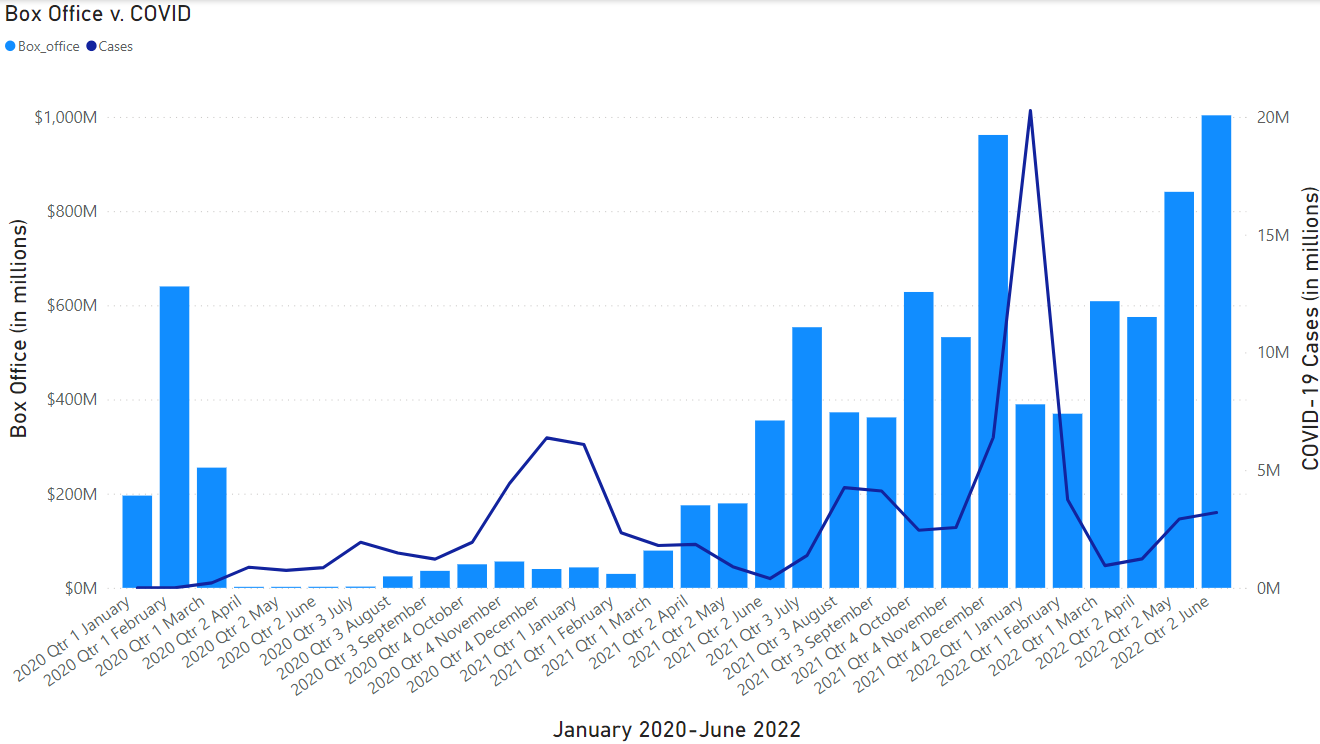

Layout of this report page (visuals, bound fields, positions):
{"tool":"powerbi","page":{"name":"C v B: 2021","canvas":[1280,720],"ordinal":3},"visuals":[{"type":"lineClusteredColumnComboChart","fields":{"Category":["Covid_2021.Date.Variation.Date Hierarchy.Year","Covid_2021.Date.Variation.Date Hierarchy.Quarter","Covid_2021.Date.Variation.Date Hierarchy.Month","Covid_2021.Date.Variation.Date Hierarchy.Day"],"Y2":["Sum(Covid_2021.Cases)"],"Y":["Sum(Covid_2021.Box_office)"]},"box":[0,0,560.3,719.7],"z":0},{"type":"lineClusteredColumnComboChart","fields":{"Category":["Covid_2021.Date.Variation.Date Hierarchy.Year","Covid_2021.Date.Variation.Date Hierarchy.Quarter","Covid_2021.Date.Variation.Date Hierarchy.Month","Covid_2021.Date.Variation.Date Hierarchy.Day"],"Y2":["Sum(Covid_2021.Deaths)"],"Y":["Sum(Covid_2021.Box_office)"]},"box":[655.1,0,615.3,719.7],"z":1000}]}

Visuals, with their boxes in screenshot pixels (x1, y1, x2, y2), scaled from the page's 1280x720 canvas onto the 1320x744 screenshot:
lineClusteredColumnComboChart - Covid_2021.Date.Variation.Date Hierarchy.Year x Covid_2021.Date.Variation.Date Hierarchy.Quarter: bbox=(0, 0, 578, 743)
lineClusteredColumnComboChart - Covid_2021.Date.Variation.Date Hierarchy.Year x Covid_2021.Date.Variation.Date Hierarchy.Quarter: bbox=(676, 0, 1310, 743)
